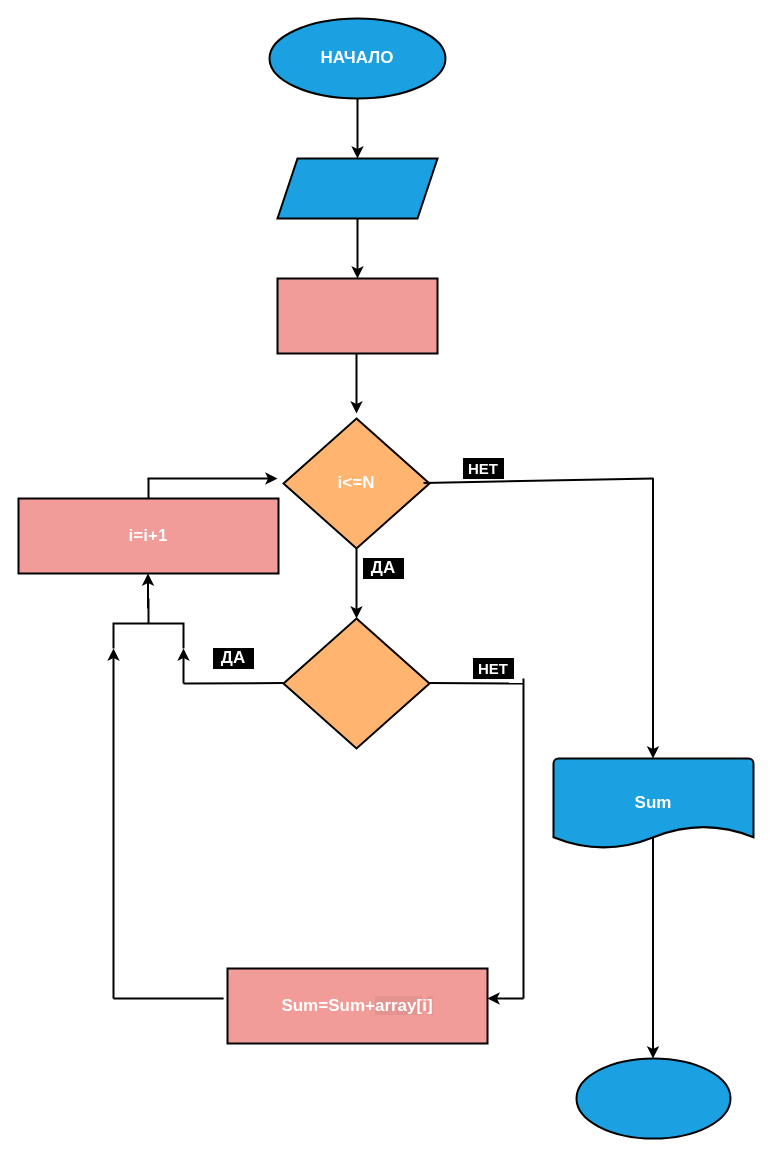
This 771x1156 diagram has some shape labels left out. The shapes that lost their labels are listed below. From the top down, each one's box as (x1, y1, x2, y2) in pixels, then its label:
(276, 157, 438, 219): array N
(276, 277, 438, 354): i=0 Sum=0
(282, 617, 430, 749): array[ i ]%2==0
(575, 1057, 731, 1139): Конец
